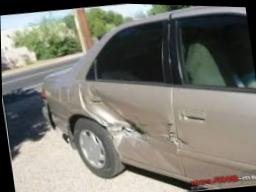Door: (85, 84, 182, 175), (175, 120, 191, 157)
Fender: (46, 81, 81, 113), (49, 105, 71, 137)
